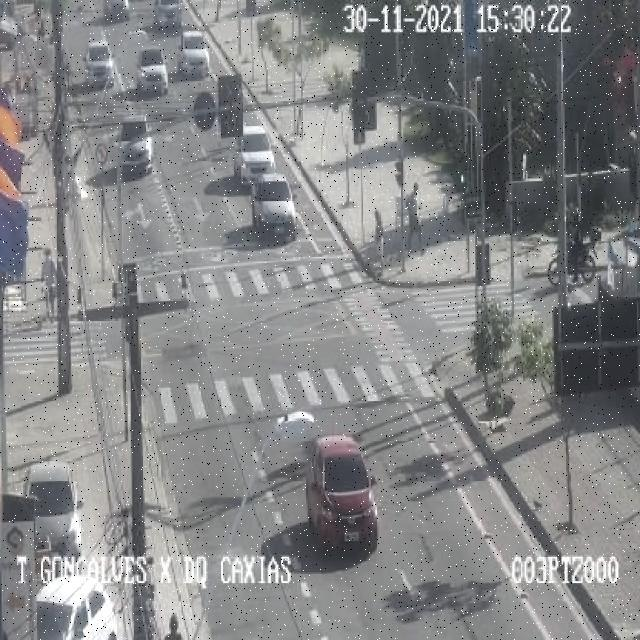Car: (303, 435, 383, 556), (23, 462, 83, 558), (35, 574, 123, 638), (109, 117, 158, 184), (250, 174, 297, 238), (233, 125, 277, 184), (178, 30, 210, 79), (136, 48, 168, 96), (84, 39, 115, 87)
